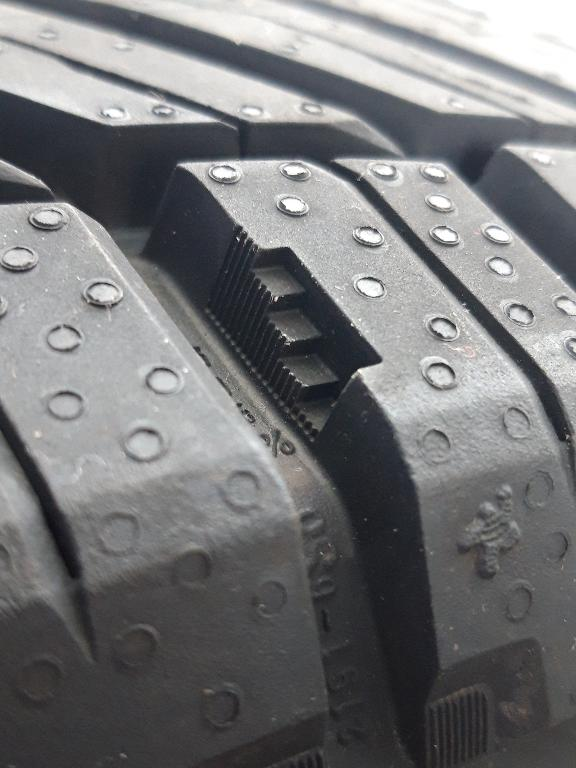temoin:100: (194, 214, 394, 454)
